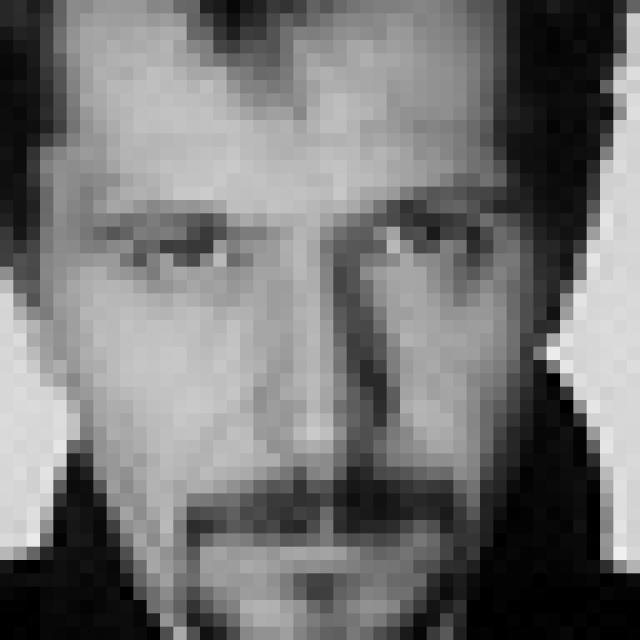neutral: (84, 178, 512, 597)
